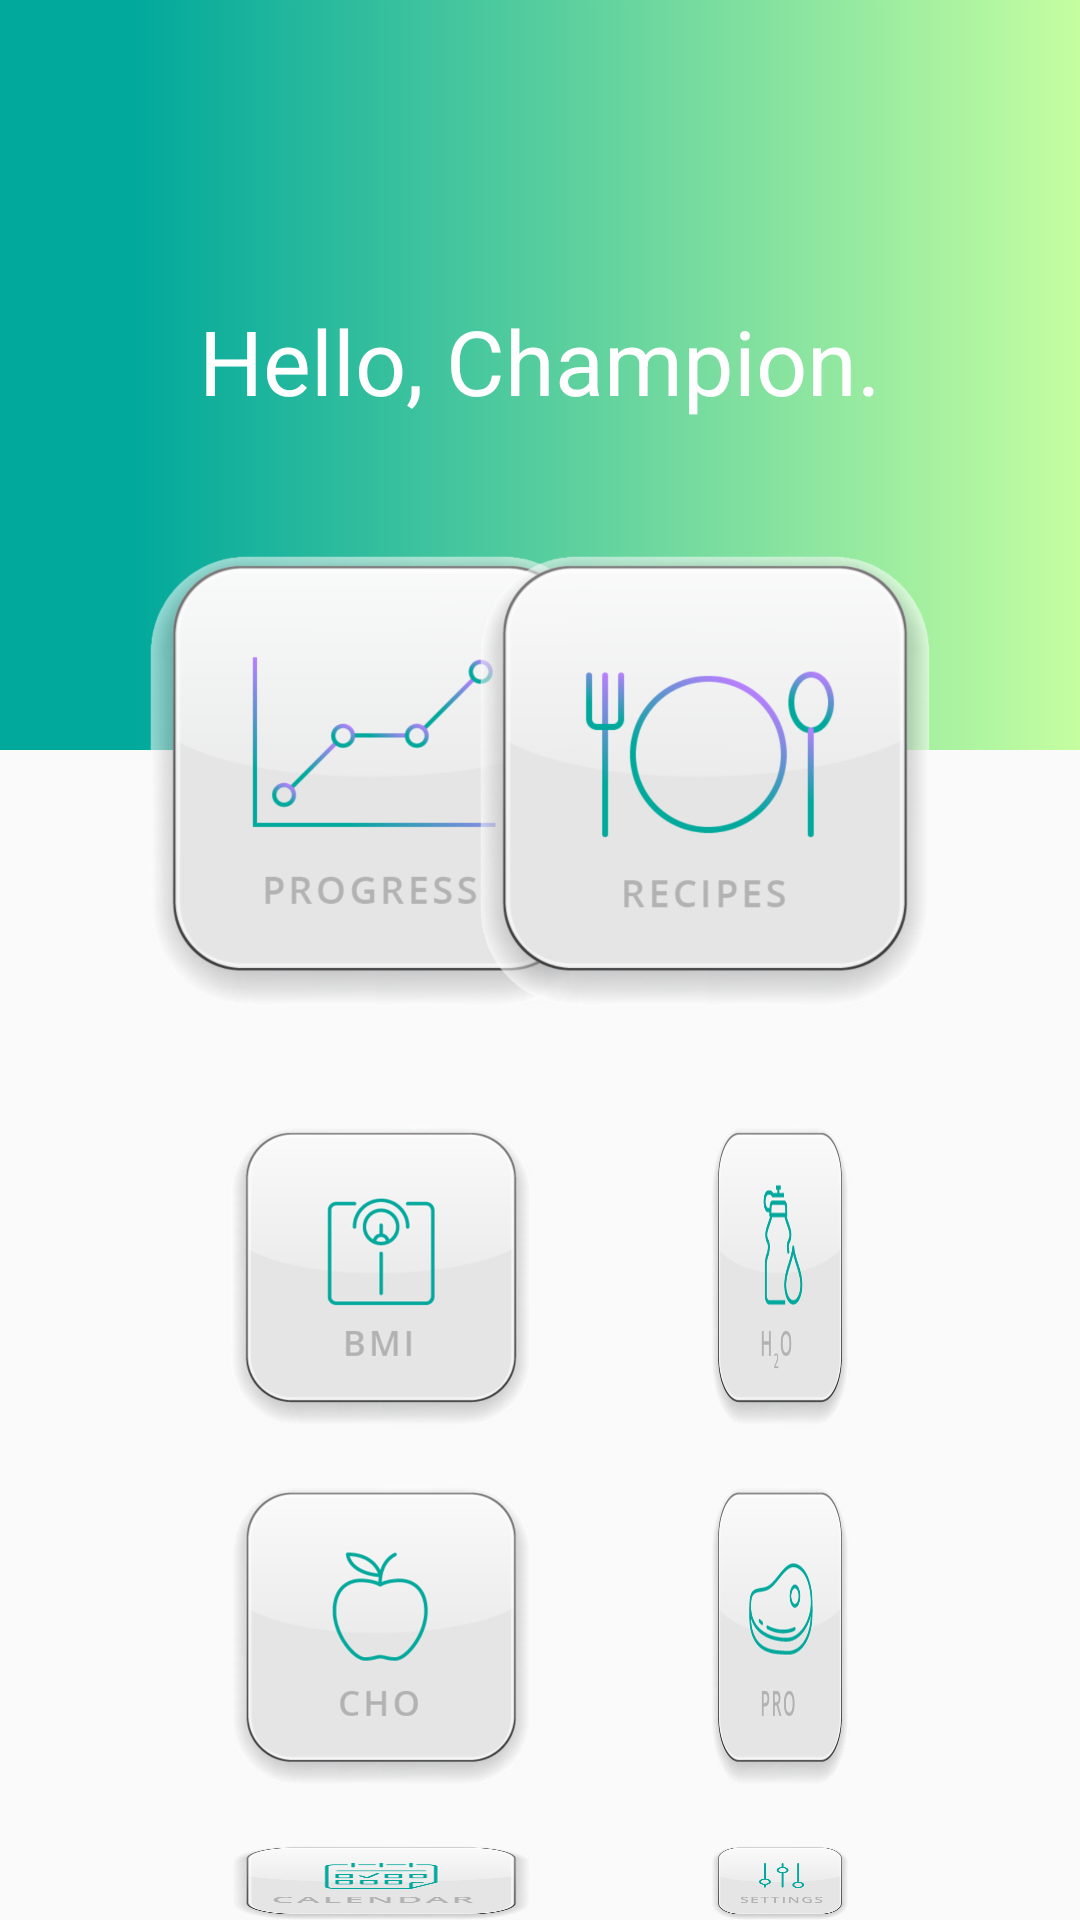

Named icons in this screenshot (1080px×1920px) and their centers, (x=x, y=y):
cho: (x=381, y=1635)
